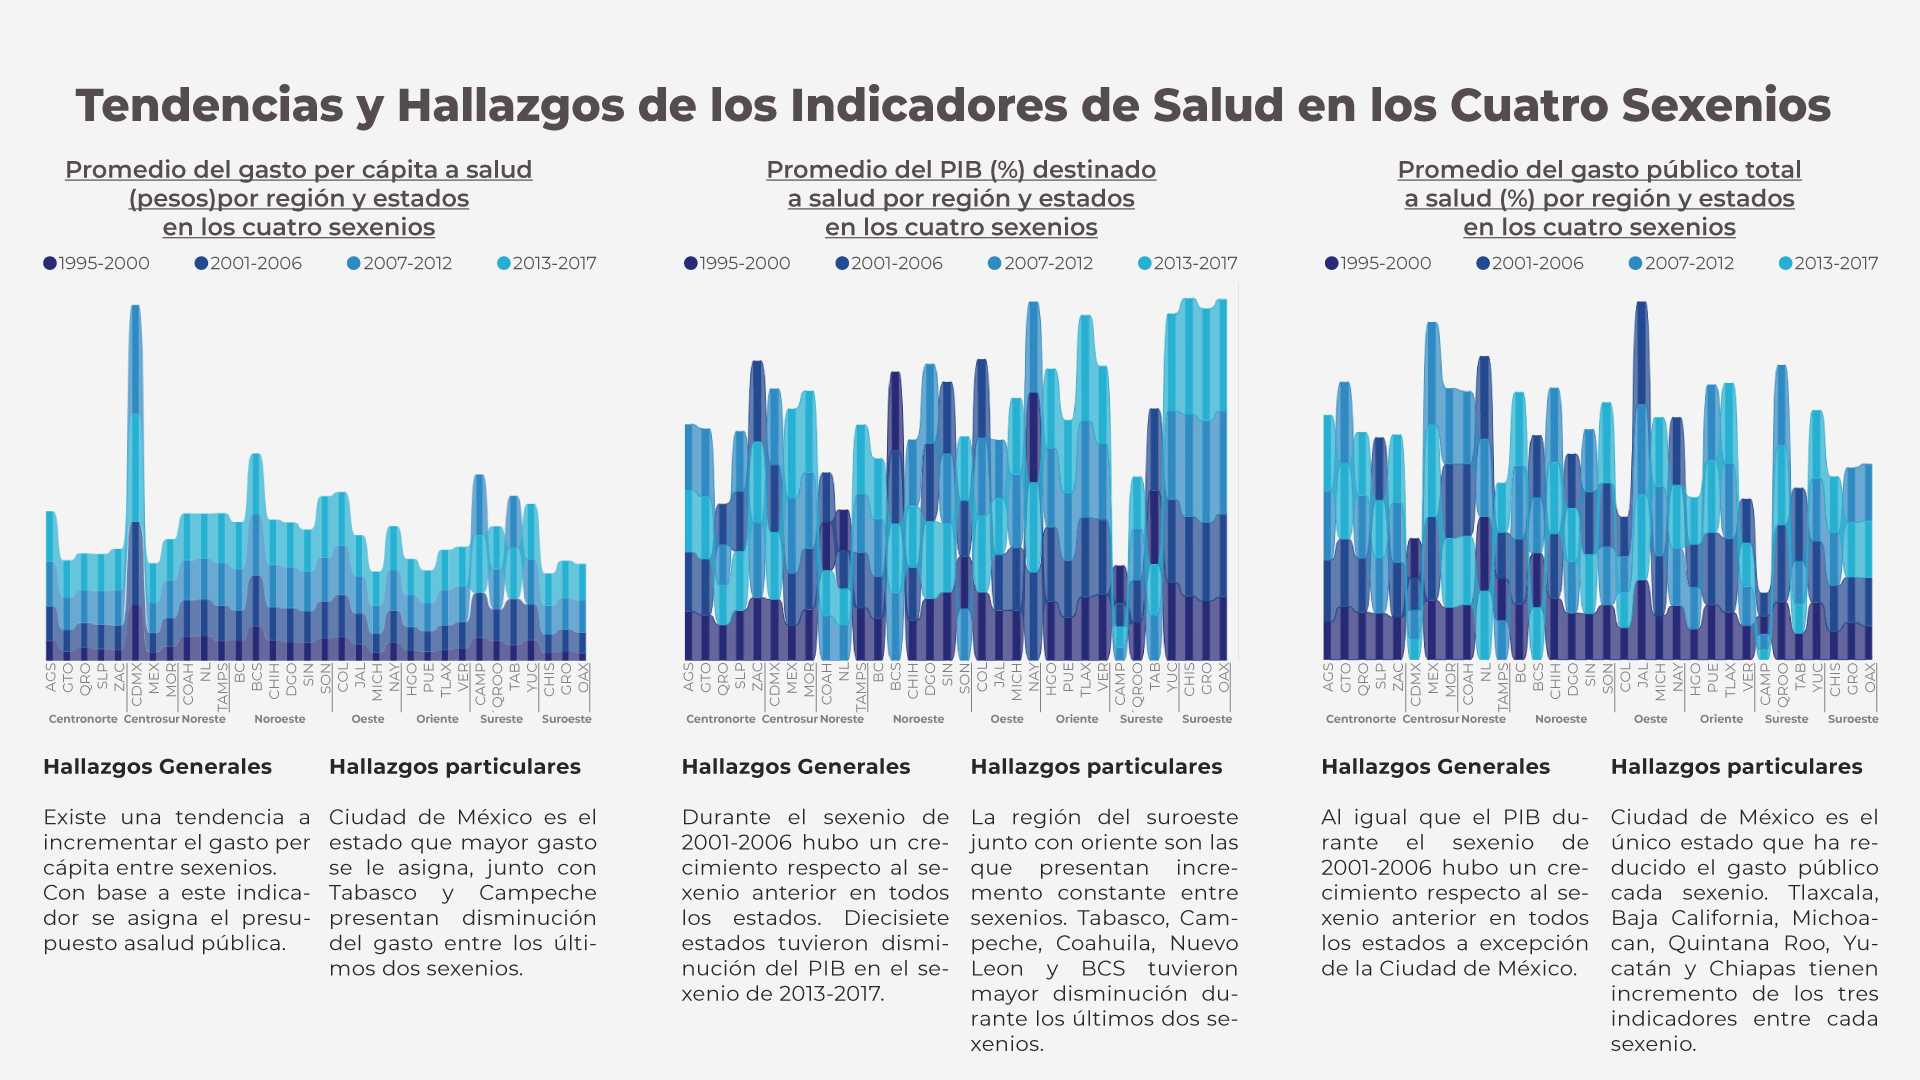

This screenshot's page, from the dashboard's own definition file:
{"tool":"powerbi","page":{"name":"Página 1","canvas":[1280,720],"ordinal":0},"visuals":[{"type":"ribbonChart","title":"Promedio del Gasto Per Capita a Salud (miles de pesos) por Región y Estados en los Cuatro Sexenios","fields":{"Category":["Regiones.Region","mPERC.EstadoPrint"],"Y":["Max(mPERC.S1_PERC)","Max(mPERC.S2_PERC)","Max(mPERC.S3_PERC)","Max(mPERC.S4_PERC)"]},"box":[18.3,14.7,723.7,359.4],"z":0},{"type":"ribbonChart","title":"Promedio del PIB (%) a Salud por Región y Estados en los Cuatro Sexenios","fields":{"Category":["Regiones.Region","mPIB.EstadoPrint"],"Y":["Max(mPIB.S1_PIB)","Max(mPIB.S2_PIB)","Max(mPIB.S3_PIB)","Max(mPIB.S4_PIB)"]},"box":[882.6,360.6,397.3,359.4],"z":1000},{"type":"actionButton","box":[0,0,100,40],"z":2000},{"type":"ribbonChart","title":"Promedio del Gasto Público Total a Salud (%) por Región y Estados en los Cuatro Sexenios","fields":{"Category":["Regiones.Region","mGPT.EstadoPrint"],"Y":["Max(mGPT.S1_GPT)","Max(mGPT.S2_GPT)","Max(mGPT.S3_GPT)","Max(mGPT.S4_GPT)"]},"box":[18.3,361.8,723.7,358.2],"z":4000}]}

Visuals, with their boxes in screenshot pixels (x1, y1, x2, y2), scaled from the page's 1280x720 canvas onto the 1920x1080 screenshot:
"Promedio del Gasto Per Capita a Salud (miles de pesos) por Región y Estados en los Cuatro Sexenios" ribbonChart: [left=27, top=22, right=1113, bottom=561]
"Promedio del PIB (%) a Salud por Región y Estados en los Cuatro Sexenios" ribbonChart: [left=1324, top=541, right=1919, bottom=1079]
actionButton: [left=0, top=0, right=150, bottom=60]
"Promedio del Gasto Público Total a Salud (%) por Región y Estados en los Cuatro Sexenios" ribbonChart: [left=27, top=543, right=1113, bottom=1079]
